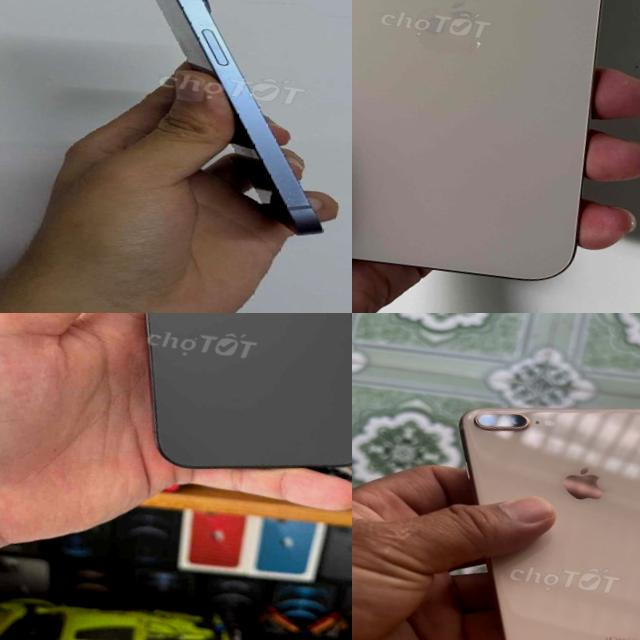gen_14: (107, 0, 352, 241), (76, 313, 352, 498)
gen_16: (352, 0, 602, 280)
gen_7_8: (410, 379, 640, 640)
